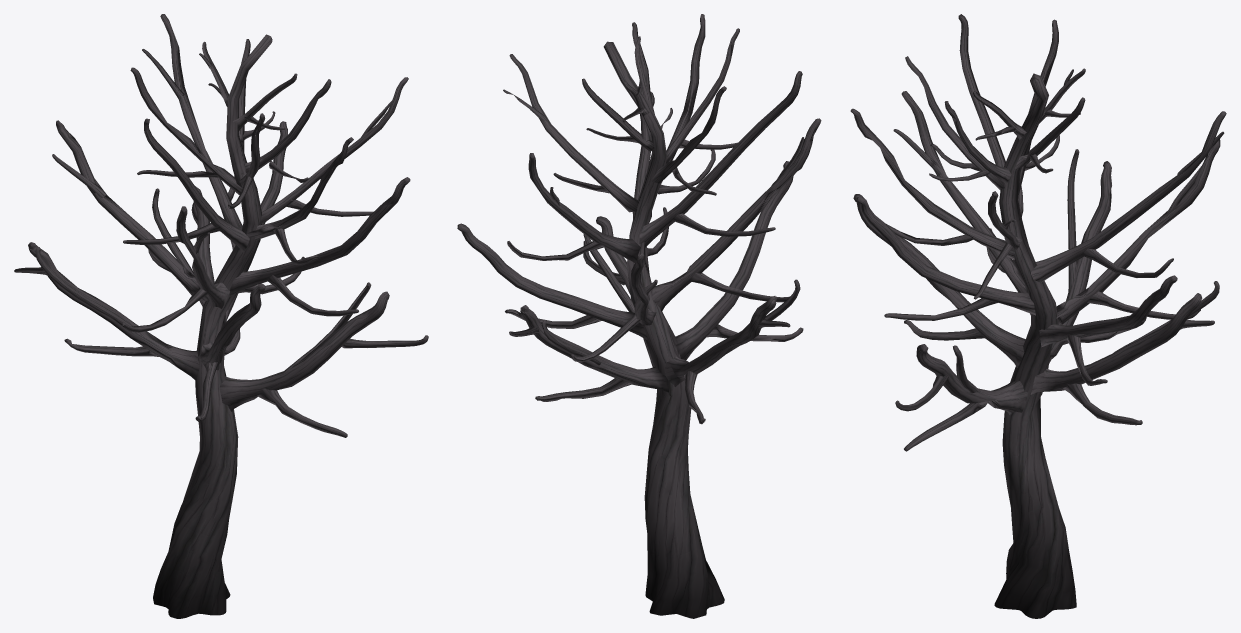
The model's file is deadtree_1_lod1.glb.
The picture shows the model from 3 angles, left to right: view 1: azimuth 30°, elevation 25°; view 2: azimuth 150°, elevation 25°; view 3: azimuth 270°, elevation 25°; orthographic projection. The views are drawn at different scales.
Parts seen in each view (by area): view 1: DeadTree_1; view 2: DeadTree_1; view 3: DeadTree_1.
Boxes of the visible parts, x1,y1,x2,y2 form: DeadTree_1: (14,14,428,618); DeadTree_1: (457,14,821,618); DeadTree_1: (850,14,1226,618).
Bounding box in the file's own units: 6.15 × 9.5 × 5.75.
Materials: 1 (1 with a texture image).
